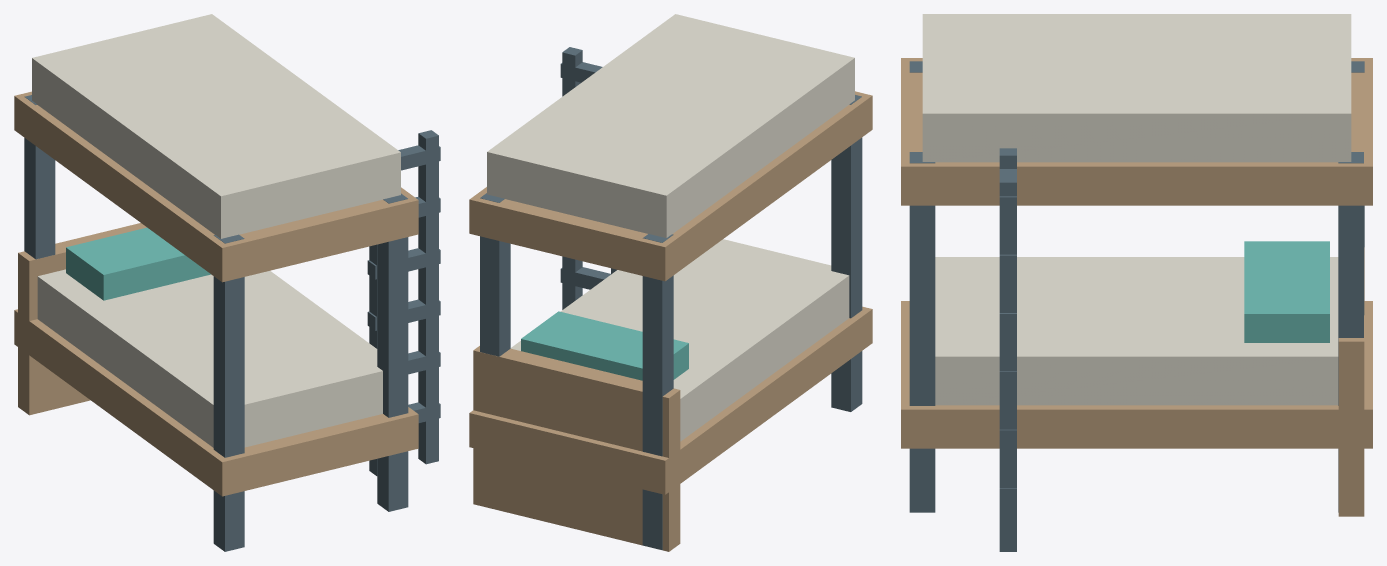
Rendered from voxel-city-districts-bunk-bed-00cd725f__24894.glb.
The picture shows the model from 3 angles, left to right: view 1: azimuth 30°, elevation 25°; view 2: azimuth 150°, elevation 25°; view 3: azimuth 270°, elevation 25°; orthographic projection. The views are drawn at different scales.
Parts seen in each view (by area): view 1: bunk-bed-concrete, bunk-bed-wood, bunk-bed-dark, bunk-bed-accent; view 2: bunk-bed-concrete, bunk-bed-wood, bunk-bed-dark, bunk-bed-accent; view 3: bunk-bed-concrete, bunk-bed-wood, bunk-bed-dark, bunk-bed-accent.
Boxes of the visible parts, <box> form: bunk-bed-concrete: <box>32,14,400,447</box>; bunk-bed-wood: <box>14,91,418,496</box>; bunk-bed-dark: <box>24,95,440,551</box>; bunk-bed-accent: <box>66,227,210,300</box>; bunk-bed-concrete: <box>487,14,854,441</box>; bunk-bed-wood: <box>469,91,872,551</box>; bunk-bed-dark: <box>480,47,862,550</box>; bunk-bed-accent: <box>521,311,688,380</box>; bunk-bed-concrete: <box>922,14,1351,405</box>; bunk-bed-wood: <box>901,58,1372,516</box>; bunk-bed-dark: <box>909,61,1364,551</box>; bunk-bed-accent: <box>1244,241,1329,342</box>.
Bounding box in the file's own units: 1.6 × 2.05 × 2.2.
